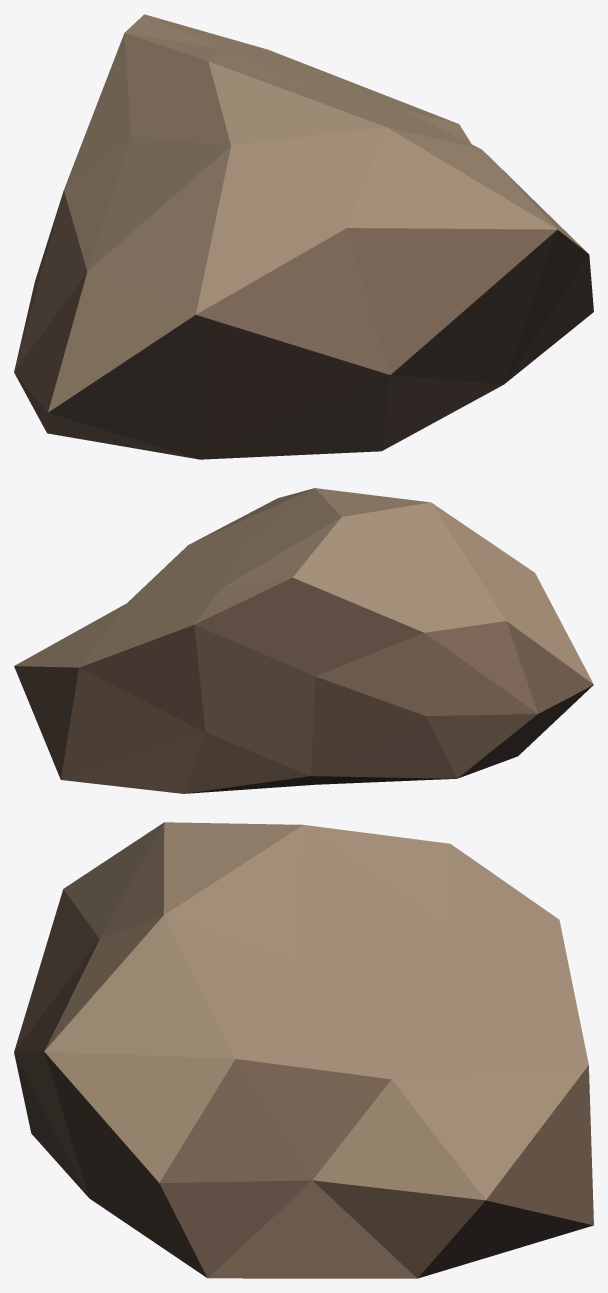
Rendered from kamen-stredni-1.glb.
The picture shows the model from 3 angles, top to bottom: view 1: azimuth 30°, elevation 25°; view 2: azimuth 150°, elevation 25°; view 3: azimuth 270°, elevation 25°; orthographic projection. The views are drawn at different scales.
Visible parts, largest first — view 1: kamen-stredni-1; view 2: kamen-stredni-1; view 3: kamen-stredni-1.
Boxes of the visible parts, x1,y1,x2,y2 form: kamen-stredni-1: [14, 14, 593, 459]; kamen-stredni-1: [14, 488, 593, 793]; kamen-stredni-1: [14, 822, 593, 1278].
Size of the model in its own units: 2.28 by 1.09 by 1.97.
